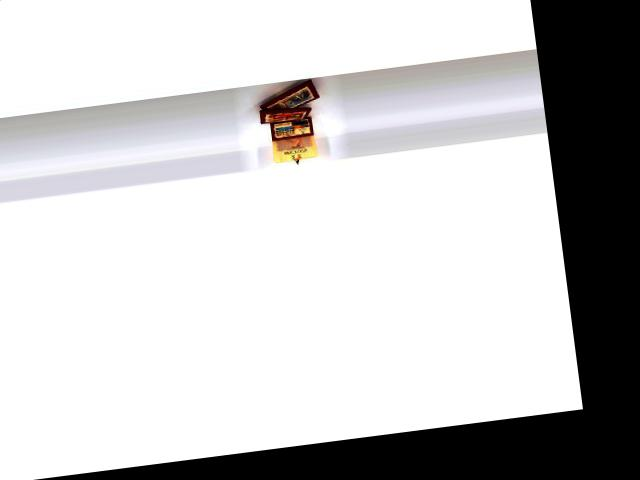chocolate: (253, 72, 333, 116)
